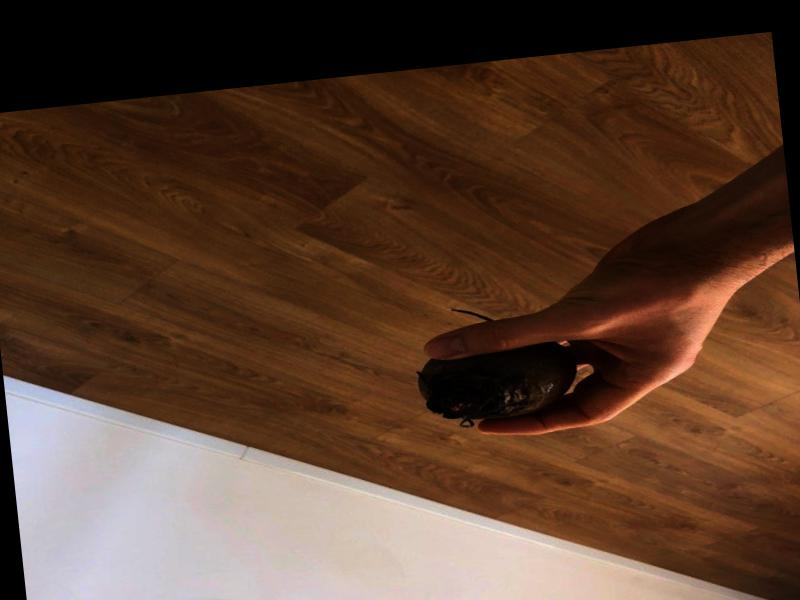Beet: (409, 297, 579, 429)
